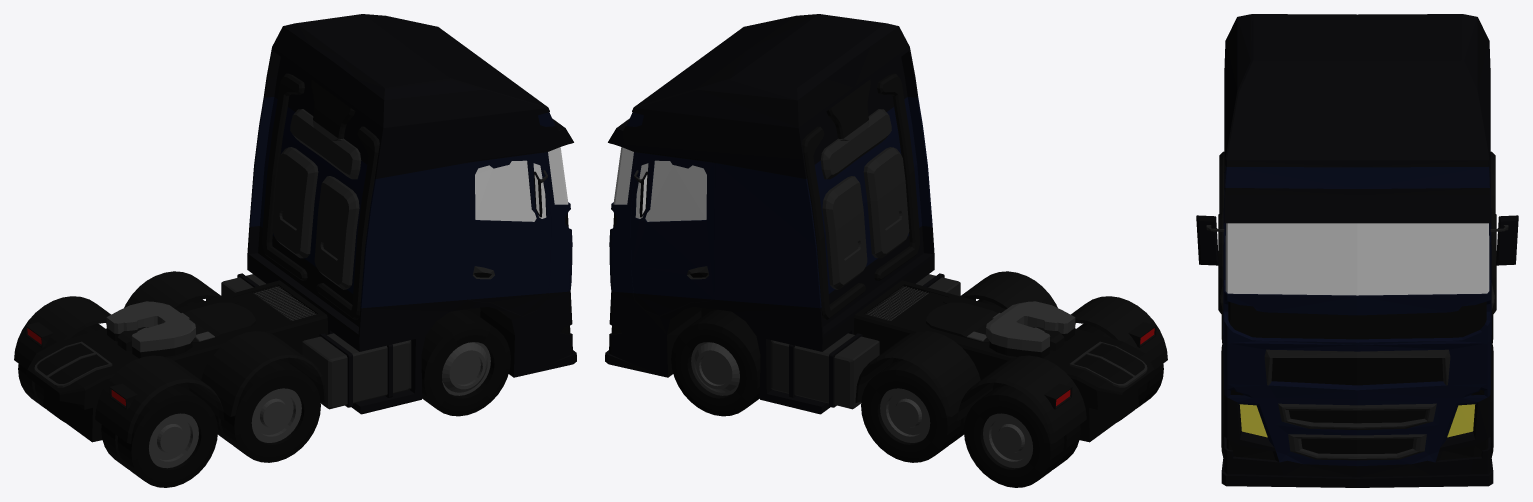
Rendered from onlytruck.obj.
The picture shows the model from 3 angles, left to right: view 1: azimuth 30°, elevation 25°; view 2: azimuth 150°, elevation 25°; view 3: azimuth 270°, elevation 25°; orthographic projection. The views are drawn at different scales.
Parts seen in each view (by area): view 1: Cube; view 2: Cube; view 3: Cube.
Boxes of the visible parts, bbox=[...] form: Cube: bbox=[14, 14, 576, 487]; Cube: bbox=[605, 14, 1167, 487]; Cube: bbox=[1196, 14, 1518, 487].
Bounding box in the file's own units: 3.02 × 2.01 × 1.48.
